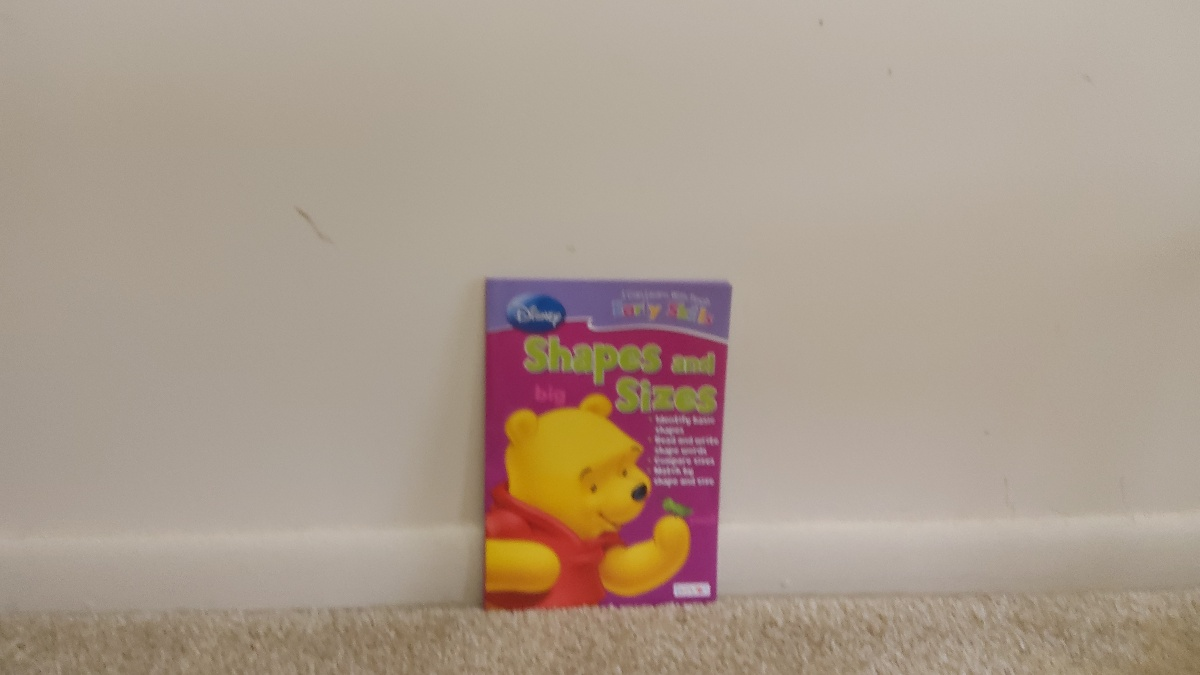book: (486, 276, 715, 604)
